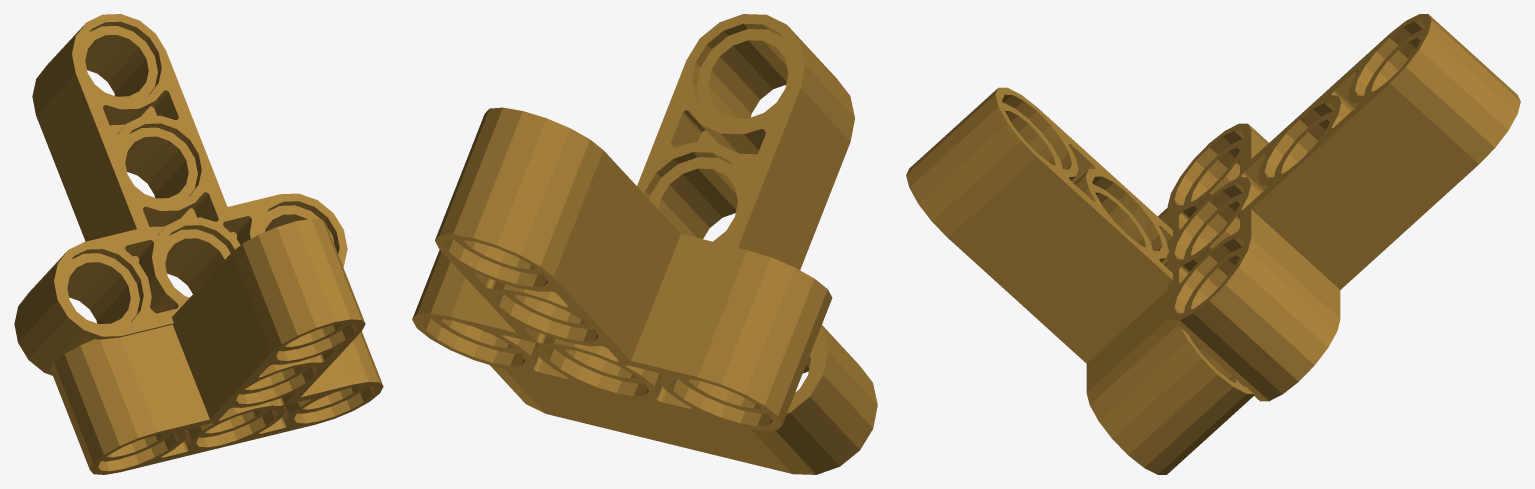
Rendered from RotationTest.dae.
3 renders of one model, left to right at view 1: azimuth 30°, elevation 25°; view 2: azimuth 150°, elevation 25°; view 3: azimuth 270°, elevation 25°, orthographic. The views are drawn at different scales.
Parts seen in each view (by area): view 1: Part_60484.2, Part_60484.1; view 2: Part_60484.2, Part_60484.1; view 3: Part_60484.2, Part_60484.1.
Boxes of the visible parts, x1,y1,x2,y2 form: Part_60484.2: [14, 14, 347, 375]; Part_60484.1: [50, 218, 383, 474]; Part_60484.2: [412, 107, 832, 430]; Part_60484.1: [490, 14, 877, 474]; Part_60484.2: [1167, 14, 1520, 401]; Part_60484.1: [906, 87, 1253, 474].
Size of the model in its own units: 23.4 by 27.24 by 38.55.
